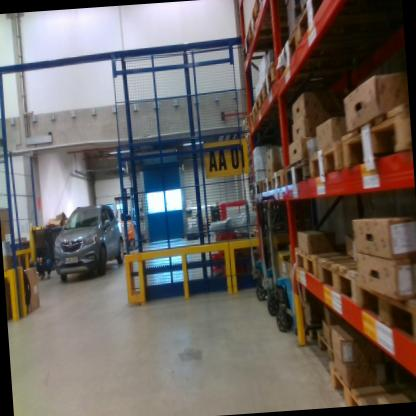forklift: (111, 183, 145, 256)
pallet: (337, 90, 413, 170), (356, 271, 416, 361), (329, 353, 416, 404), (274, 36, 338, 82), (314, 251, 360, 312), (293, 247, 350, 296), (258, 57, 316, 104), (316, 326, 359, 371), (252, 78, 305, 114), (306, 134, 347, 180), (247, 99, 294, 130), (285, 157, 313, 190), (297, 320, 322, 349), (271, 168, 289, 194), (263, 170, 275, 195), (256, 179, 265, 196), (248, 182, 260, 194), (244, 157, 255, 169), (241, 126, 251, 139), (248, 174, 257, 186), (244, 140, 252, 152), (251, 205, 261, 213), (246, 150, 254, 160), (248, 166, 255, 177), (253, 230, 262, 238), (244, 134, 251, 144), (244, 114, 249, 127), (251, 197, 257, 206)
pallet_truck: (260, 188, 301, 342), (253, 190, 278, 321), (243, 193, 263, 302)
small_load_carrier: (219, 249, 246, 282), (212, 225, 238, 252), (206, 248, 221, 273)
